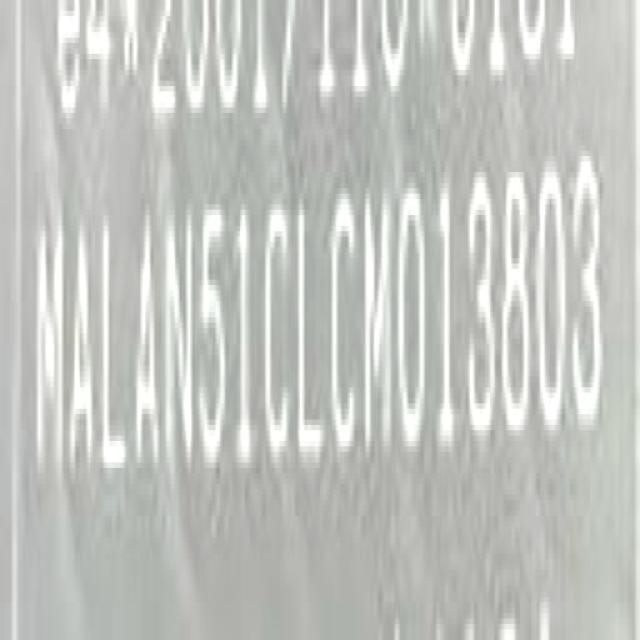0: (537, 158, 570, 435), (398, 180, 428, 462)
1: (434, 178, 458, 462), (232, 198, 254, 481)
3: (573, 163, 604, 434), (467, 174, 497, 451)
5: (200, 202, 229, 479)
8: (502, 167, 532, 446)
A: (134, 219, 162, 486), (68, 223, 96, 487)
C: (328, 186, 360, 471), (264, 209, 294, 478)
L: (99, 219, 130, 487), (298, 195, 327, 473)
M: (33, 221, 67, 494), (364, 181, 394, 464)
N: (164, 213, 196, 481)
